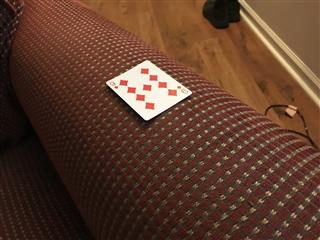NineOfDiamonds: (104, 59, 193, 121)
